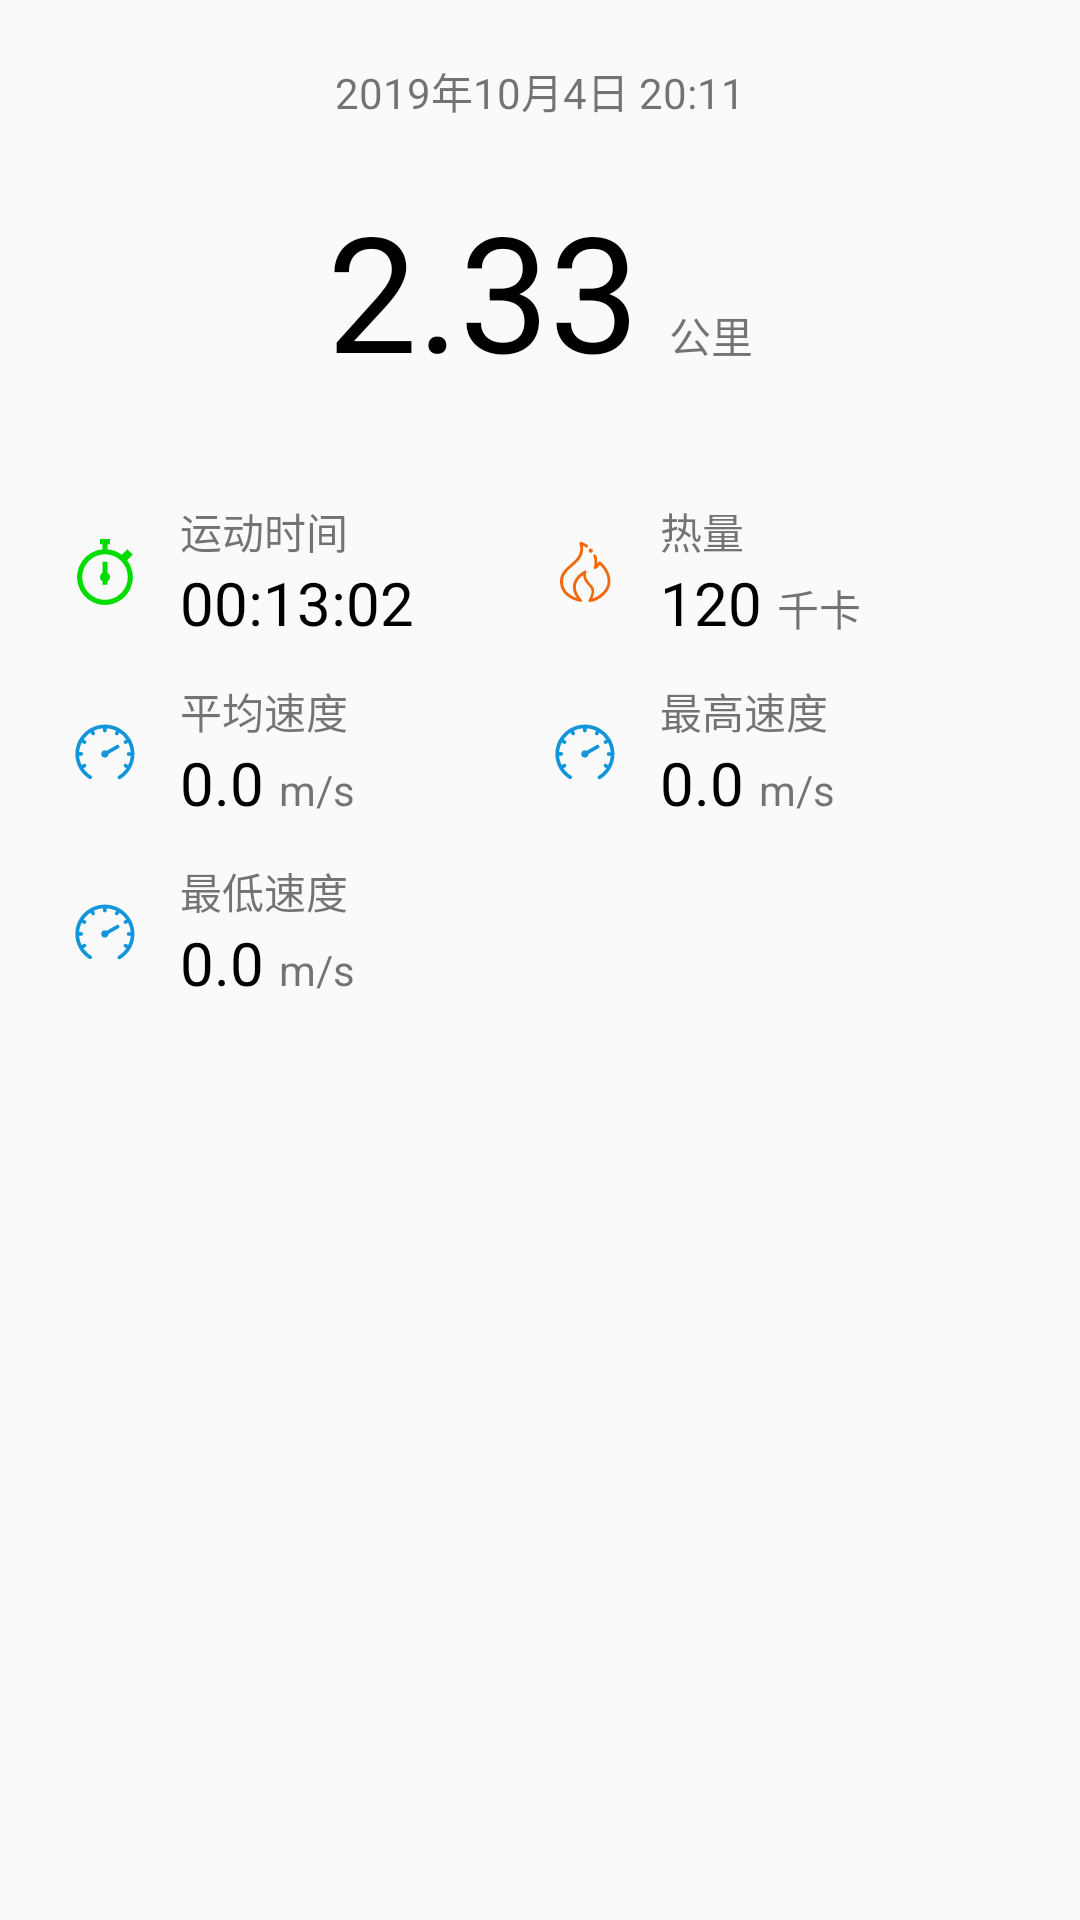

Named icons in this screenshot (1080w x 1920h) and their centers, point (x, y):
calorie: point (585, 571)
speed: point (105, 752), point (585, 752), point (105, 932)
time: point (105, 572)
